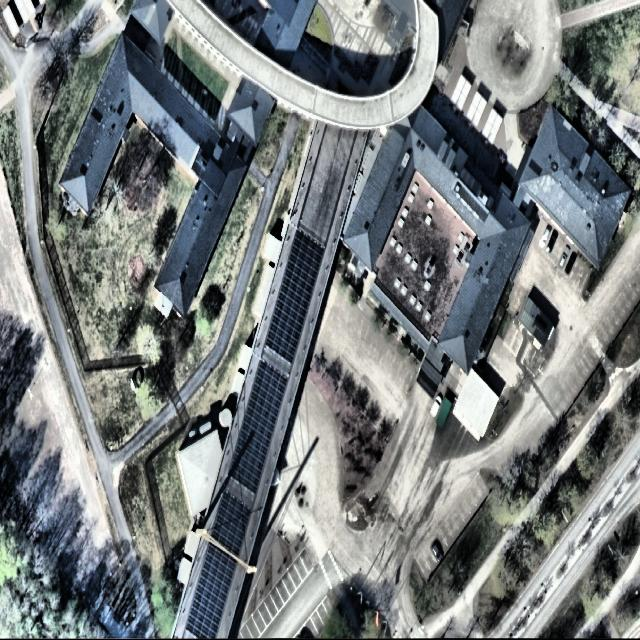roof_pv: (228, 351, 290, 497), (266, 226, 327, 359), (184, 542, 236, 636), (212, 493, 250, 552)
